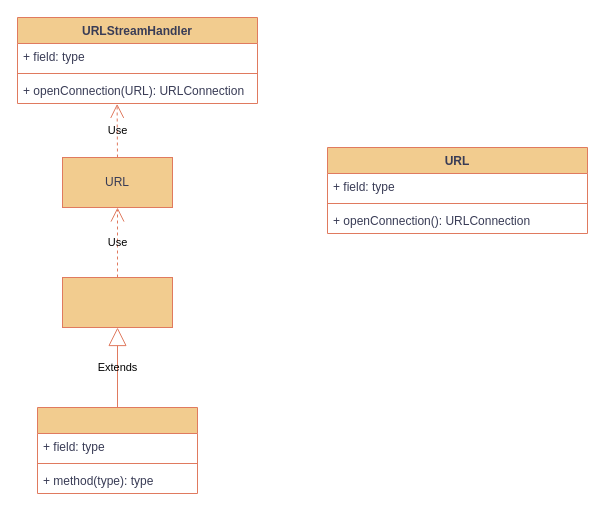
The diagram is 605 pixels wide and 514 high, and some of its shapes have lost their labels. The box of each missing label's shape, as (x1, y1, x2, y2) in pixels:
HttpURLConnection: (36, 406, 198, 494)
URLConnection: (62, 276, 172, 328)
